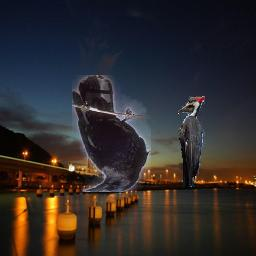Crow: (73, 76, 152, 193)
Woodpecker: (177, 97, 206, 188)
